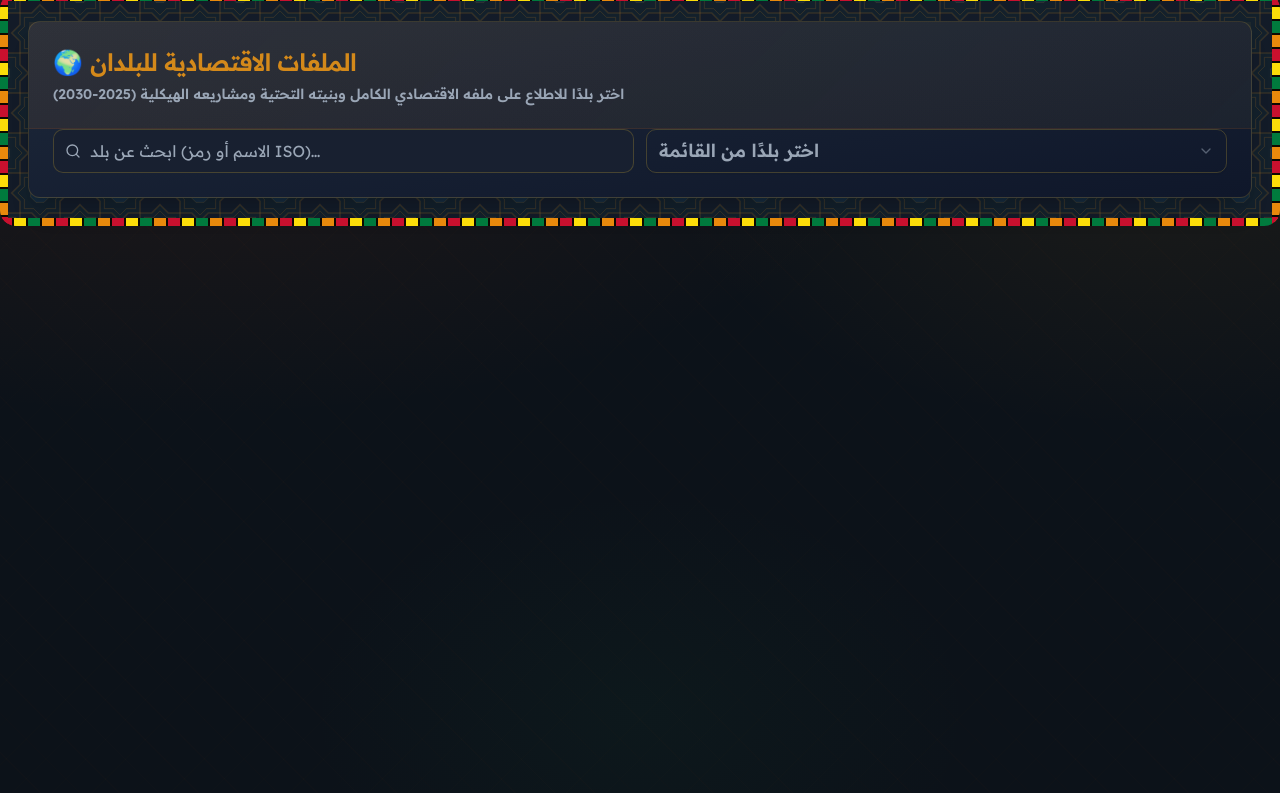
Scenario: Profils Pays — projets structurants › affiche les textes arabes du projet quand l’interface est en arabe
This screenshot has width=1280, height=793.
Step 1. Type "dza" into the dropdown with placeholder "ابحث عن بلد (الاسم أو رمز ISO)…" → (344, 151), box x1=53 y1=129 x2=634 y2=173
Then press Enter
(page scrolled)
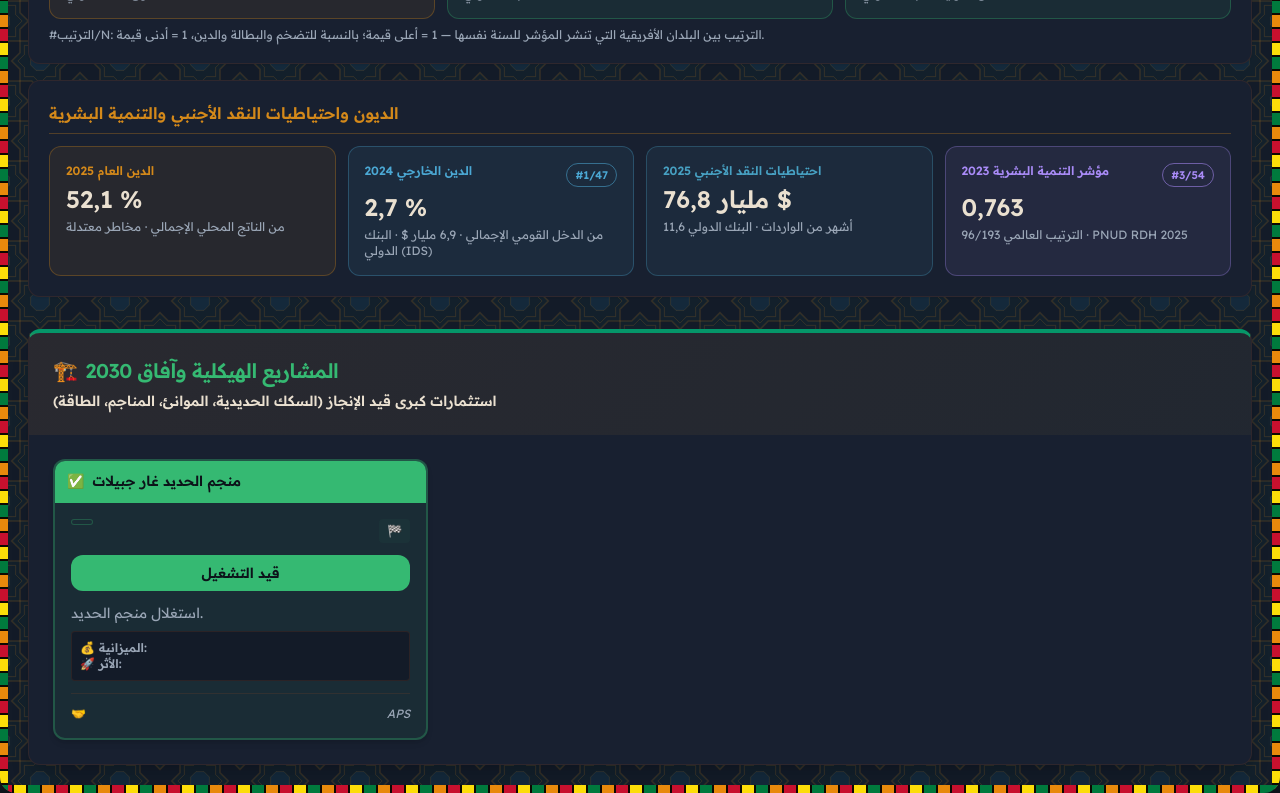
expect the heading "✅ منجم الحديد غار جبيلات" is shown: met, box x1=67 y1=472 x2=241 y2=490
expect the text "استغلال منجم الحديد." is shown: met, box x1=71 y1=604 x2=203 y2=622
